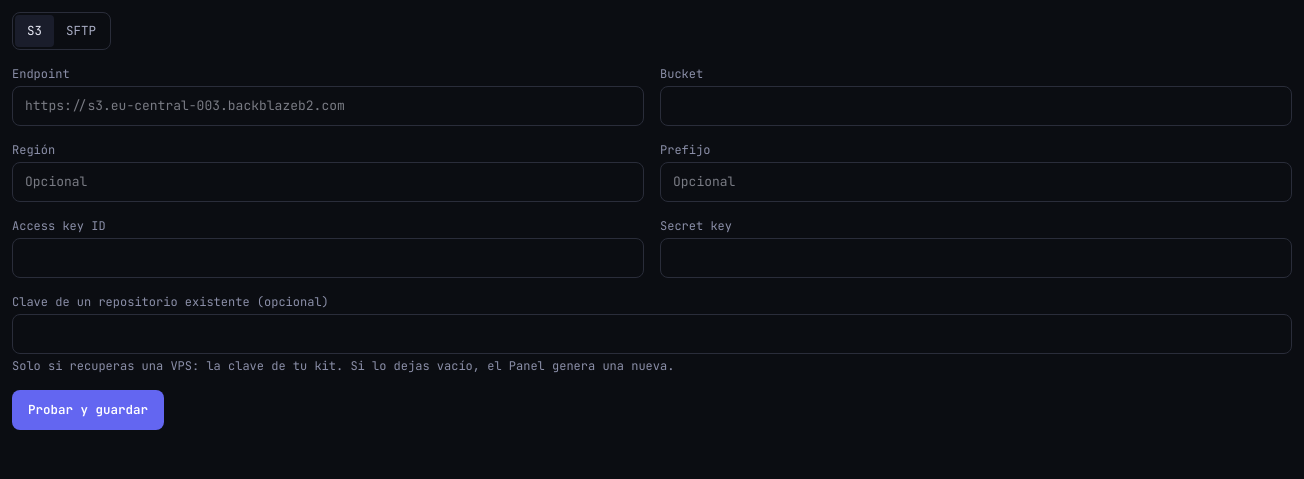
Test: DestinoBackupForm › muestra el error del servidor
The image size is (1304, 479).
Click the button "Probar y guardar".
click(88, 410)  # box [12, 390, 164, 430]
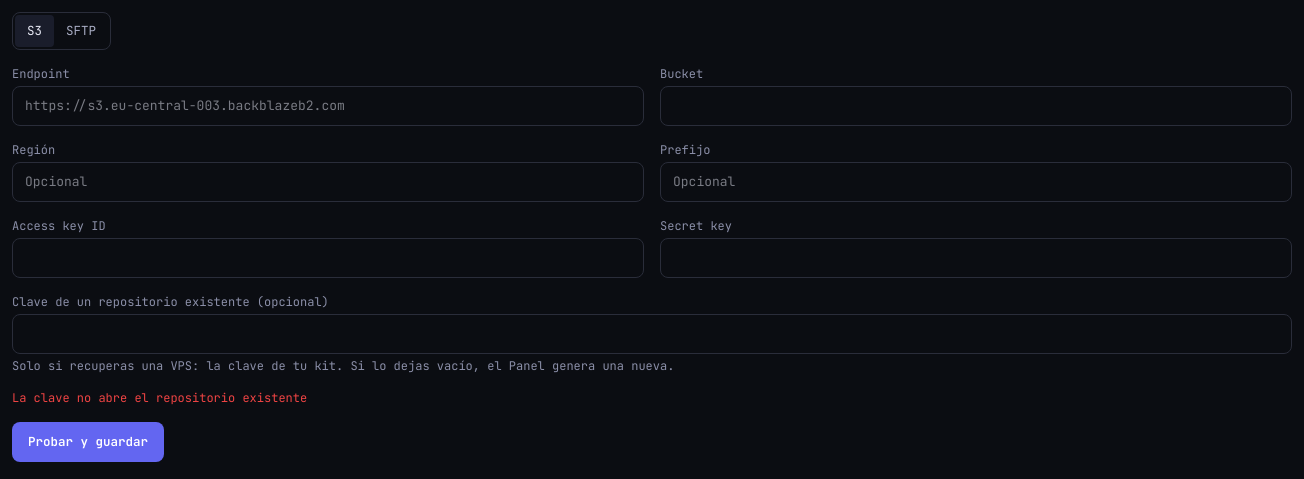
Expected: the message reads "La clave no abre el repositorio existente", [12, 390, 307, 406]
